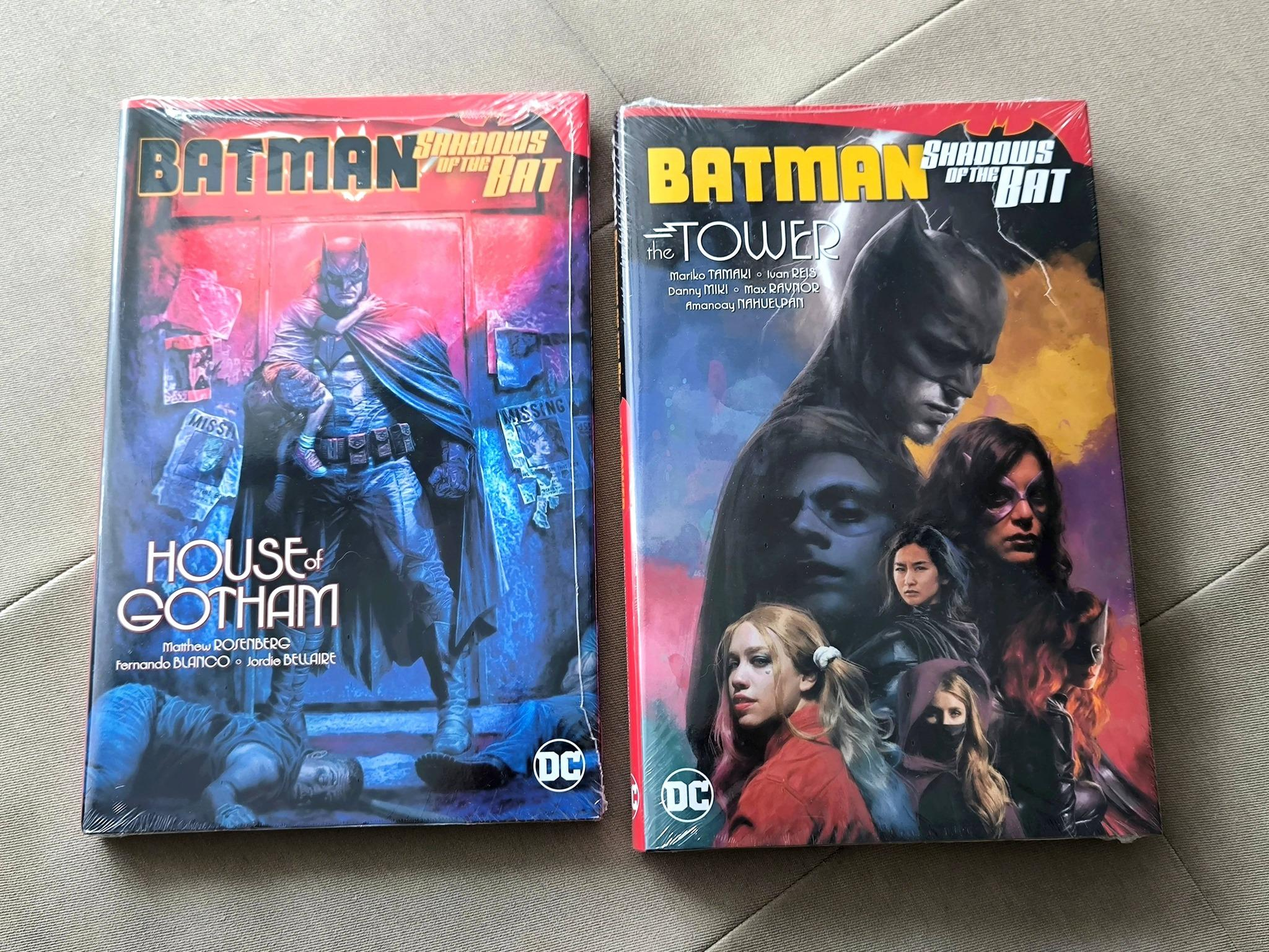comic: (612, 87, 1159, 853), (68, 89, 604, 834)
